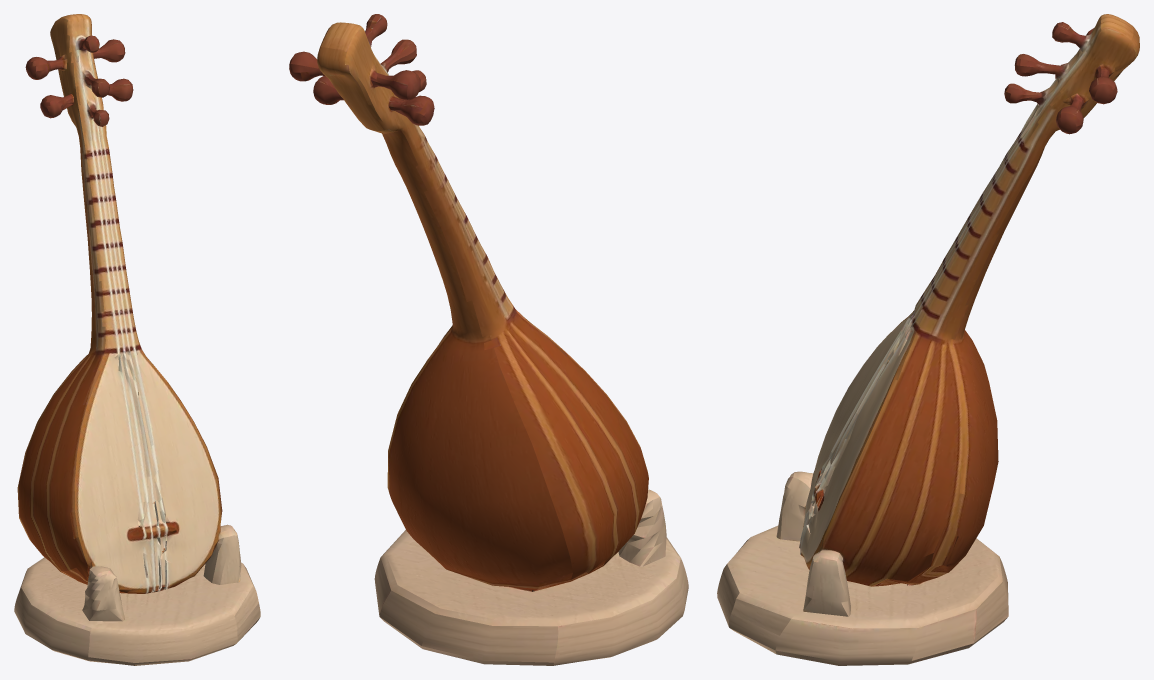
The model's file is baglama.glb.
3 renders of one model, left to right at view 1: azimuth 30°, elevation 25°; view 2: azimuth 150°, elevation 25°; view 3: azimuth 270°, elevation 25°, orthographic. The views are drawn at different scales.
Visible parts, largest first — view 1: Mesh0; view 2: Mesh0; view 3: Mesh0.
Boxes of the visible parts, x1,y1,x2,y2 form: Mesh0: (14, 14, 260, 665); Mesh0: (289, 14, 688, 665); Mesh0: (717, 14, 1139, 665).
Size of the model in its own units: 0.8177 by 1.9 by 1.19.
1 material, 1 textured.
